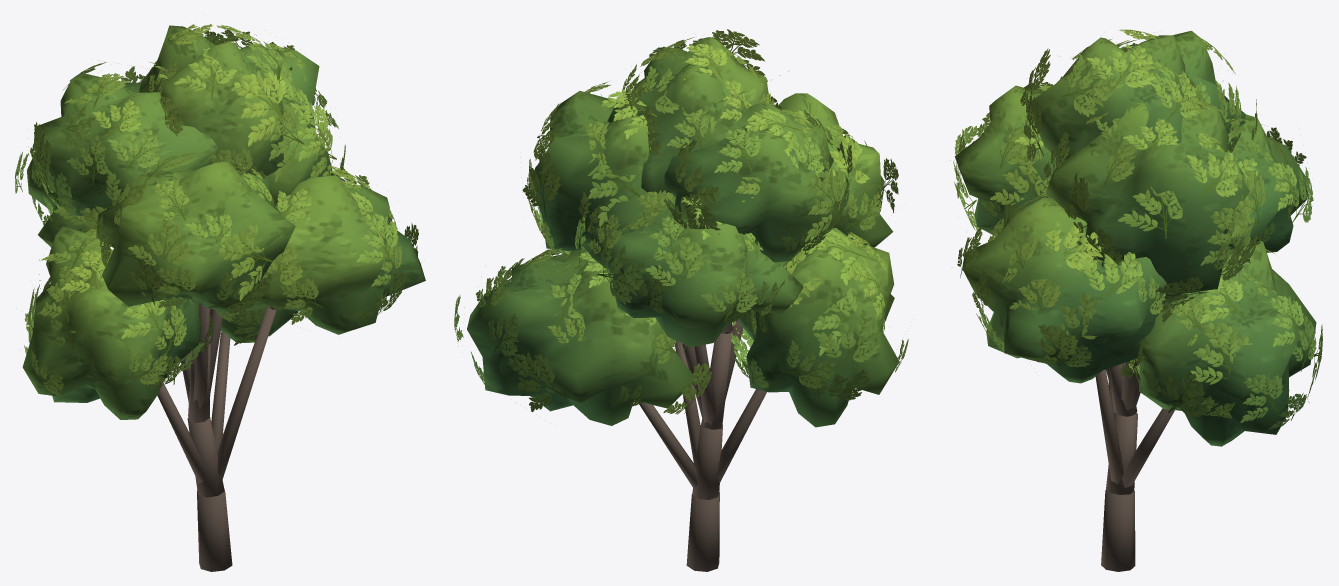
The model's file is elm.glb.
The picture shows the model from 3 angles, left to right: view 1: azimuth 30°, elevation 25°; view 2: azimuth 150°, elevation 25°; view 3: azimuth 270°, elevation 25°; orthographic projection.
Parts seen in each view (by area): view 1: elm; view 2: elm; view 3: elm.
Boxes of the visible parts, left/top/right/bottom form: elm: left=15, top=24, right=425, bottom=571; elm: left=454, top=29, right=908, bottom=571; elm: left=950, top=29, right=1322, bottom=571.
Bounding box in the file's own units: 7.24 × 9.66 × 6.2.
1 material, 1 textured.
